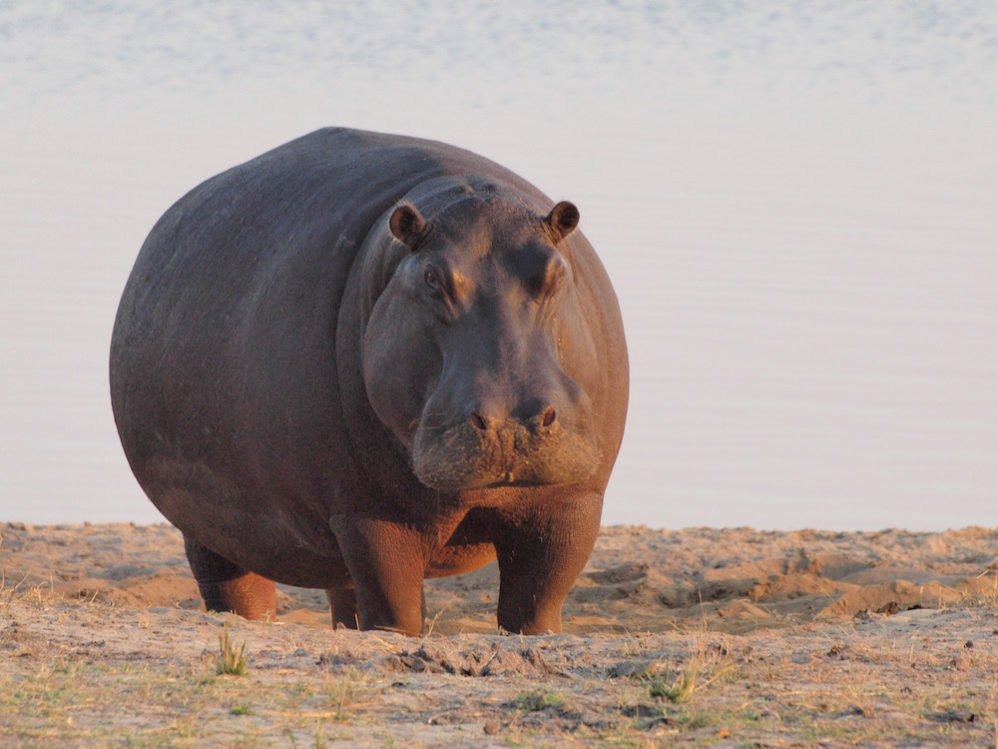Hippopotamus: (103, 122, 635, 649)
